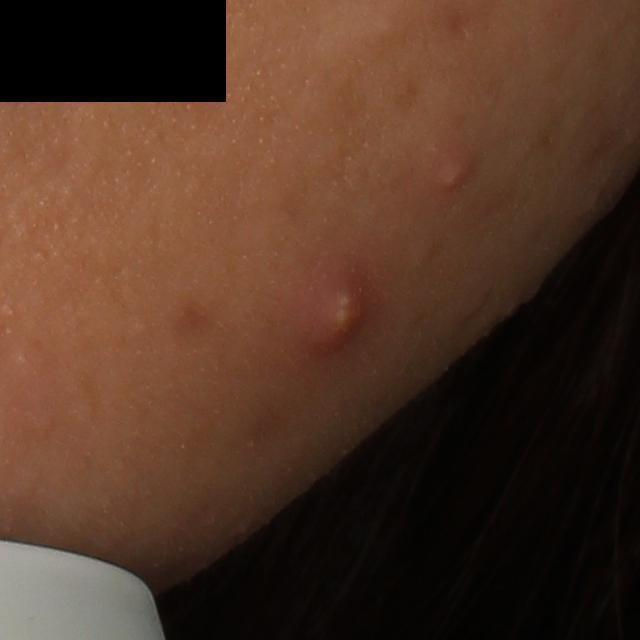pustule: (315, 279, 365, 356)
